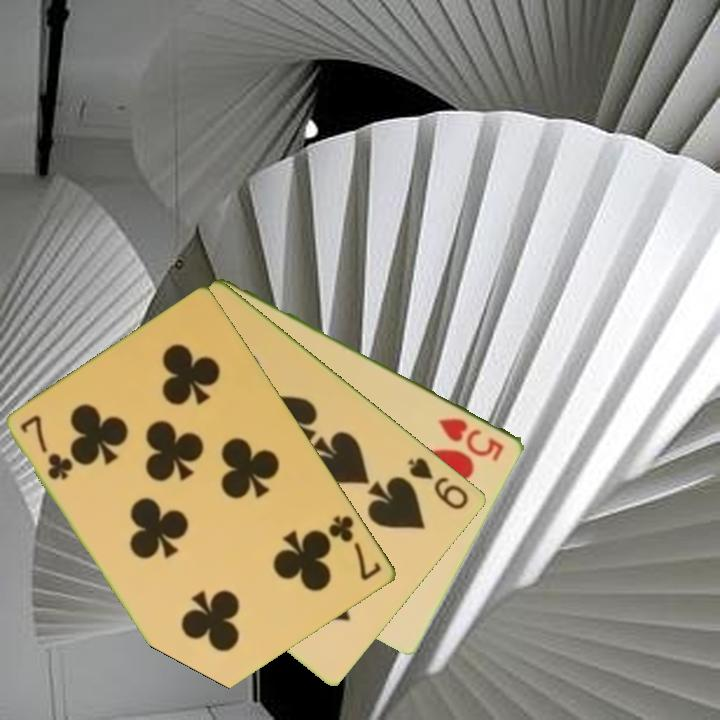5h: (435, 414, 507, 464)
7c: (325, 511, 385, 584), (17, 411, 77, 483)
9s: (404, 454, 472, 513)
